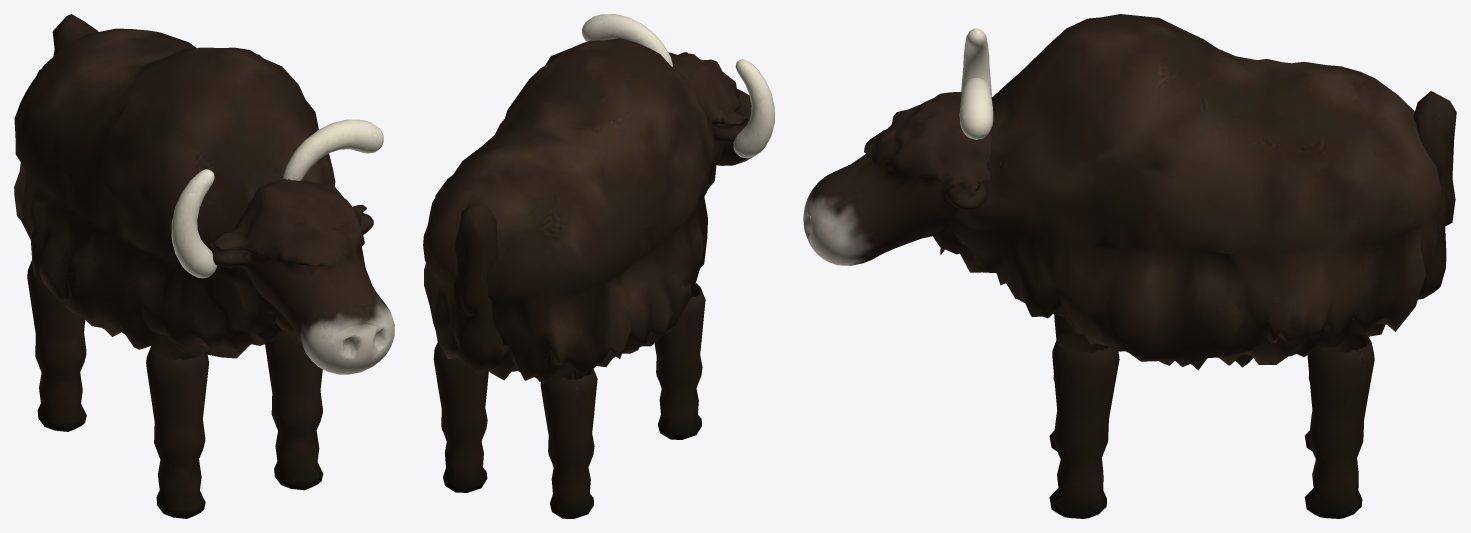
The model's file is animal_yak.glb.
The picture shows the model from 3 angles, left to right: view 1: azimuth 30°, elevation 25°; view 2: azimuth 150°, elevation 25°; view 3: azimuth 270°, elevation 25°; orthographic projection. The views are drawn at different scales.
Visible parts, largest first — view 1: animal_yak, head, leg0, leg1, leg2, tail; view 2: animal_yak, head, leg2, tail, leg3, leg0; view 3: animal_yak, head, leg1, leg3, tail.
Boxes of the visible parts, x1,y1,x2,y2 form: animal_yak: (14, 28, 335, 358); head: (171, 119, 394, 374); leg0: (146, 342, 208, 518); leg1: (265, 330, 323, 490); leg2: (27, 260, 86, 431); tail: (52, 14, 98, 56); animal_yak: (423, 38, 724, 383); head: (582, 14, 774, 165); leg2: (540, 367, 597, 518); tail: (454, 203, 509, 370); leg3: (433, 343, 488, 492); leg0: (654, 283, 705, 439); animal_yak: (933, 14, 1441, 370); head: (803, 28, 993, 265); leg1: (1049, 329, 1119, 518); leg3: (1304, 333, 1374, 518); tail: (1413, 91, 1456, 299).
Bounding box in the file's own units: 0.3347 × 0.5584 × 0.717.
Materials: 1 (1 with a texture image).
